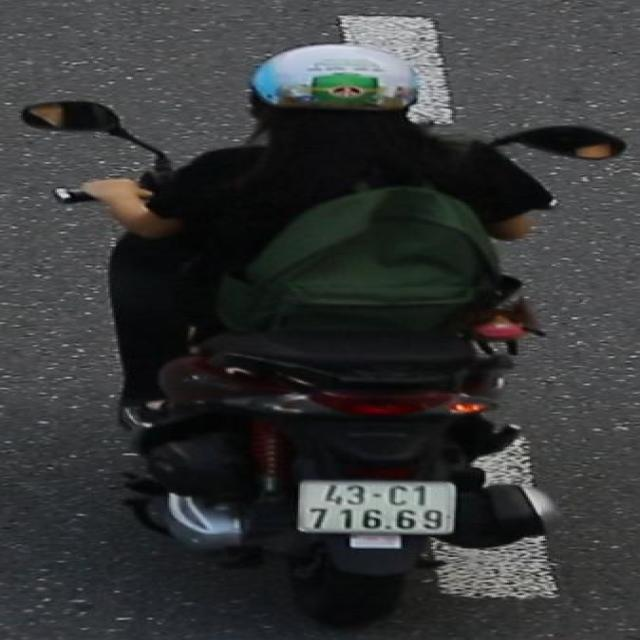LP: (288, 472, 457, 538)
helmet: (239, 38, 431, 158)
